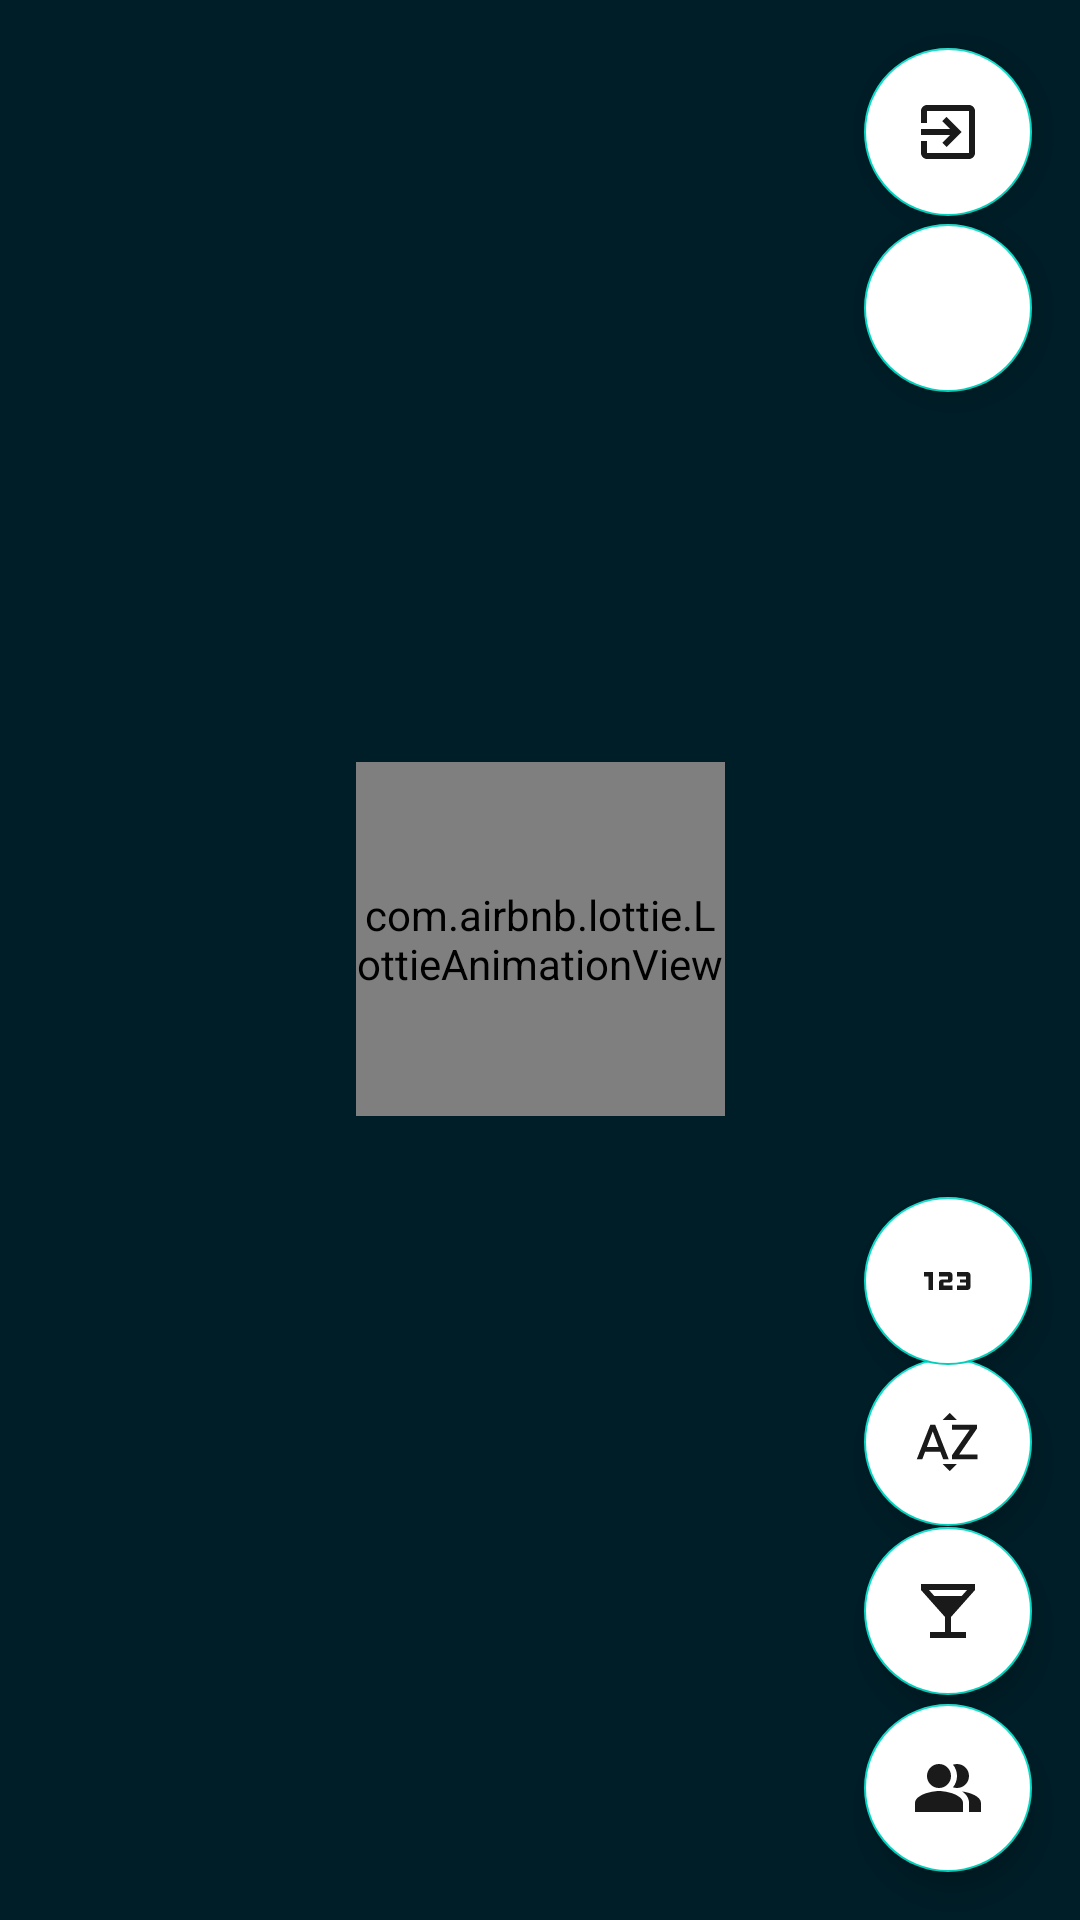

Icons on this 1080×1920 Android screen, each with its box as (left=x1, top=y1, right=x2, bottom=y2):
Blízke podniky: (left=864, top=1527, right=1032, bottom=1695)
Moji priatelia: (left=864, top=1704, right=1032, bottom=1872)
Odhlásiť sa: (left=864, top=48, right=1032, bottom=216)
sort by: (left=864, top=1358, right=1032, bottom=1526)
